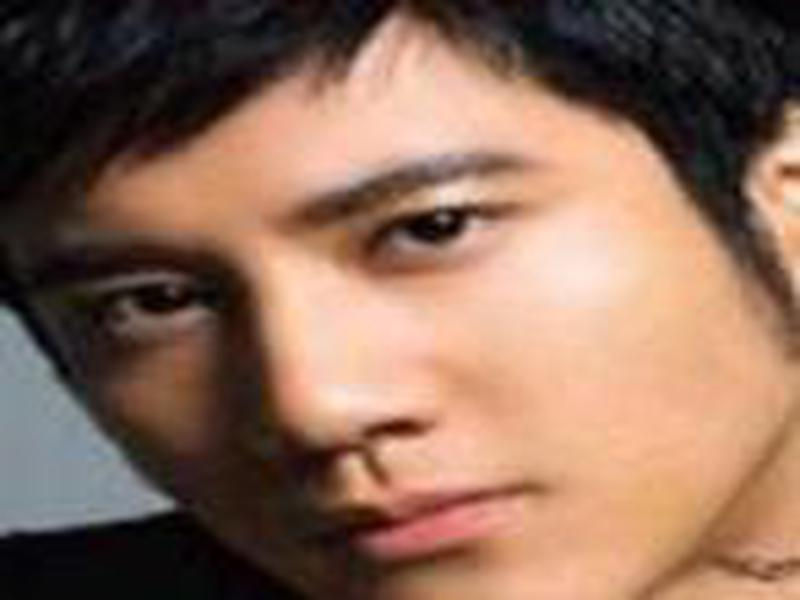without_mask: (4, 102, 776, 595)
